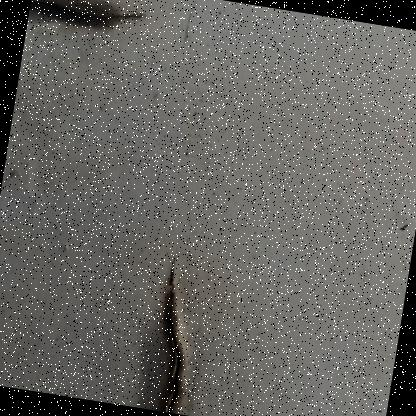Crack: (134, 256, 246, 415), (22, 0, 180, 77)
